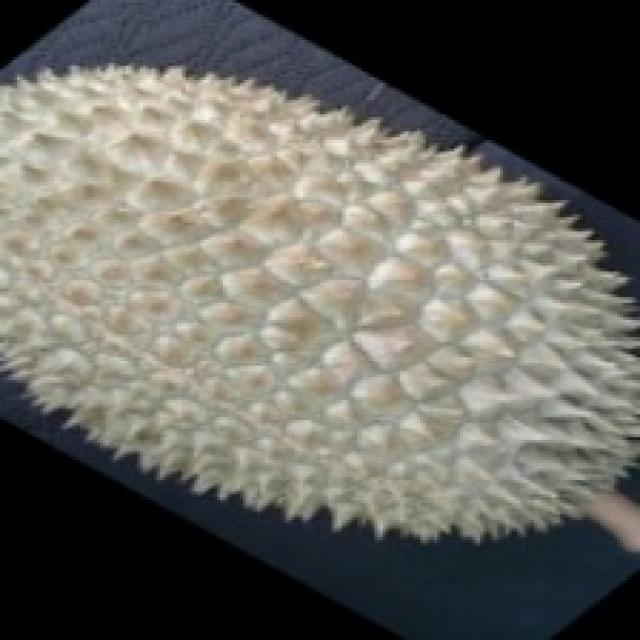d2: (0, 69, 640, 565)
